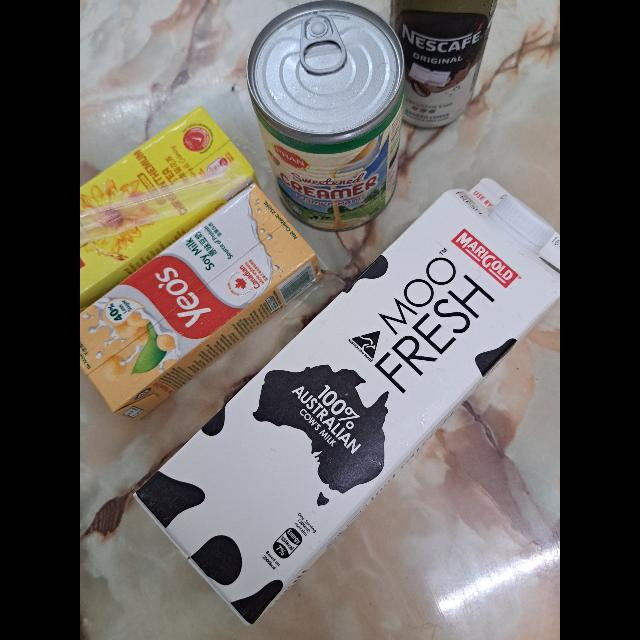aba de lata: (298, 10, 348, 74)
caixinha: (132, 178, 560, 624), (82, 106, 256, 308)
lata: (247, 2, 405, 230), (391, 0, 499, 130)
tampa plástica: (492, 192, 556, 252)
